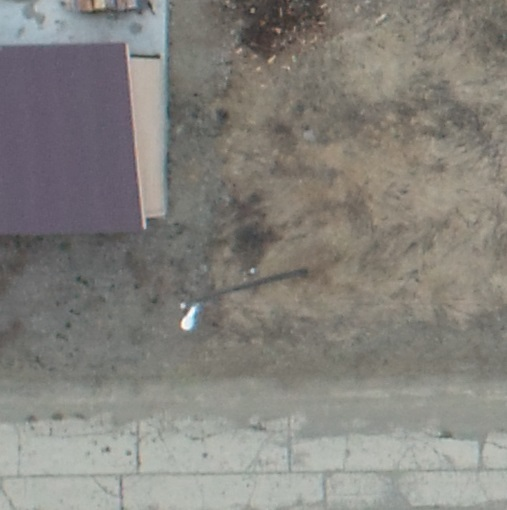opora: (177, 267, 310, 331)
